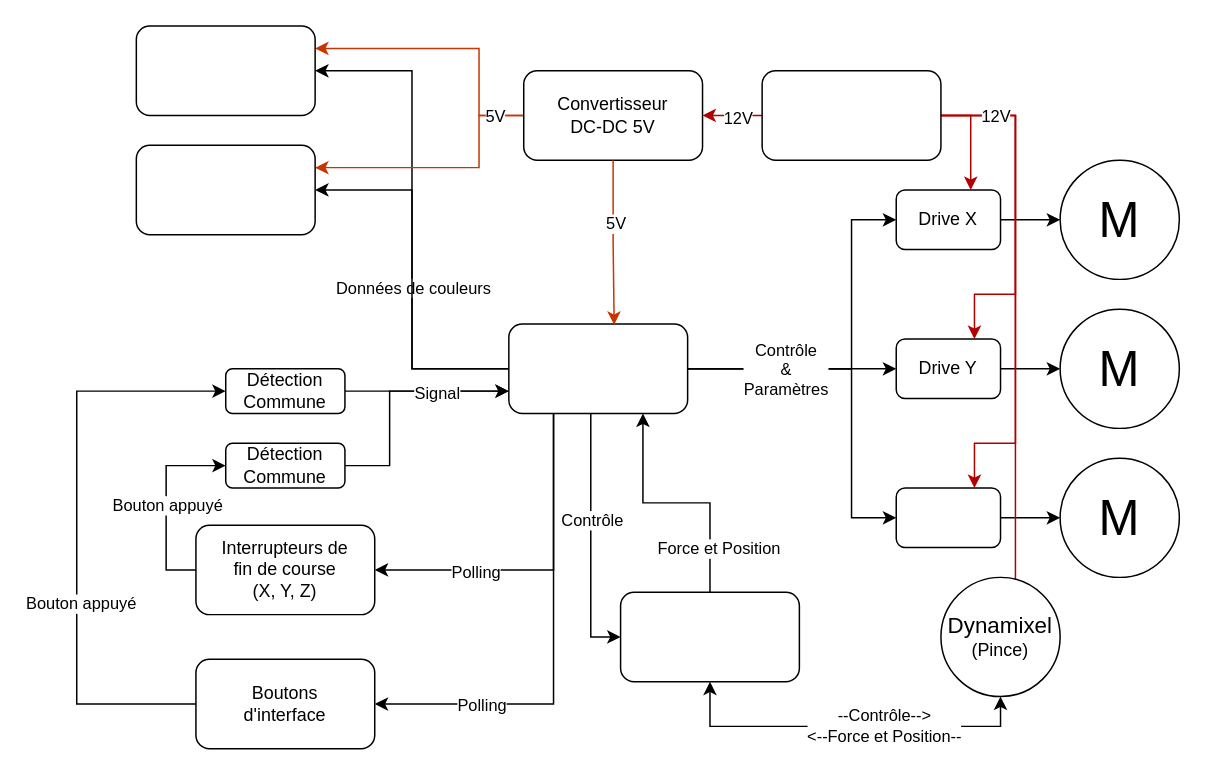
This 1205x775 diagram has some shape labels left out. Here are the shapes that lost their labels. From the top down, the centre of each, then its label:
(225,70): Éclairage Esthétique
(851,114): Alimentaion 12V
(225,189): Écran LED
(597,368): Arduino MEGA
(948,517): Drive Z
(709,636): Convertisseur UART à TTL
